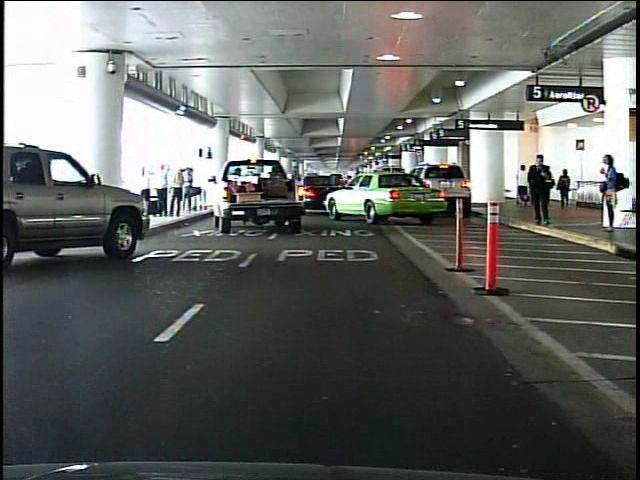person: (523, 149, 552, 230), (596, 152, 622, 238), (554, 168, 573, 211), (518, 163, 533, 209)
